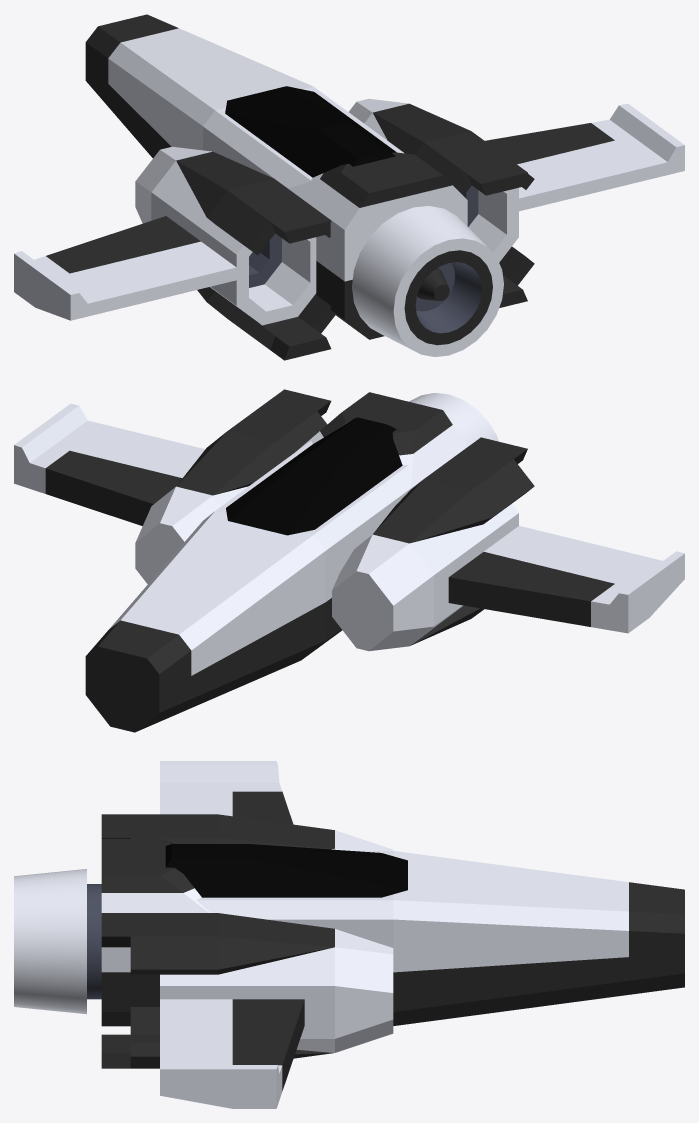
The model's file is spaceship.glb.
The picture shows the model from 3 angles, top to bottom: view 1: azimuth 30°, elevation 25°; view 2: azimuth 150°, elevation 25°; view 3: azimuth 270°, elevation 25°; orthographic projection. The views are drawn at different scales.
Parts seen in each view (by area): view 1: mergedBlocks(Clone); view 2: mergedBlocks(Clone); view 3: mergedBlocks(Clone).
Boxes of the visible parts, x1,y1,x2,y2 form: mergedBlocks(Clone): [14, 14, 684, 360]; mergedBlocks(Clone): [14, 389, 684, 732]; mergedBlocks(Clone): [14, 761, 684, 1108].
Bounding box in the file's own units: 5 × 1.18 × 4.6.
